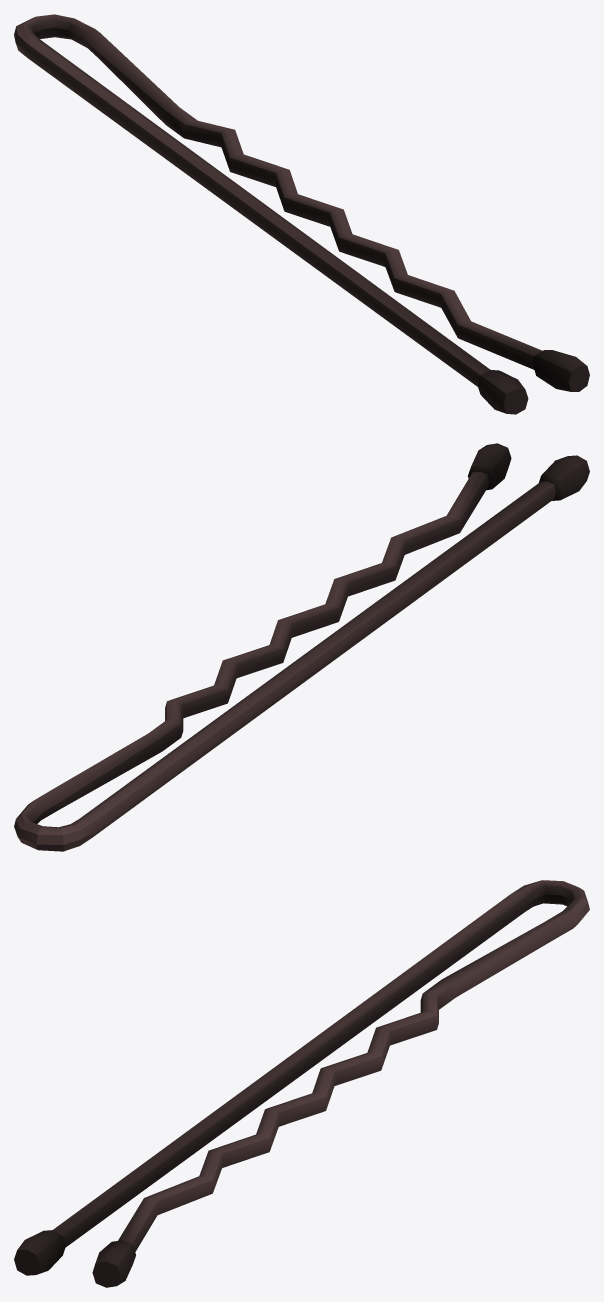
3 views of the same model, one above another, from view 1: azimuth 30°, elevation 25°; view 2: azimuth 150°, elevation 25°; view 3: azimuth 330°, elevation 25° (orthographic). The views are drawn at different scales.
Parts seen in each view (by area): view 1: Hairpin; view 2: Hairpin; view 3: Hairpin.
Boxes of the visible parts, x1,y1,x2,y2 form: Hairpin: (14, 14, 589, 414); Hairpin: (14, 443, 589, 851); Hairpin: (14, 880, 589, 1287).
Size of the model in its own units: 0.0559 by 0.0173 by 0.5.
